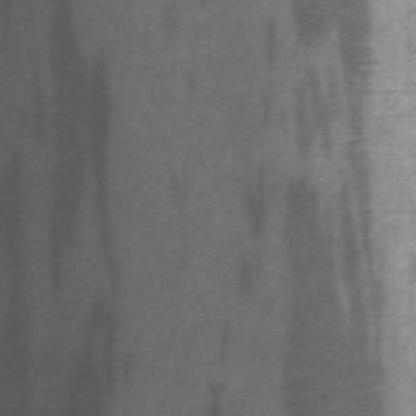inclusion: (285, 0, 383, 412), (42, 2, 121, 408), (226, 158, 271, 304), (168, 154, 199, 216)
